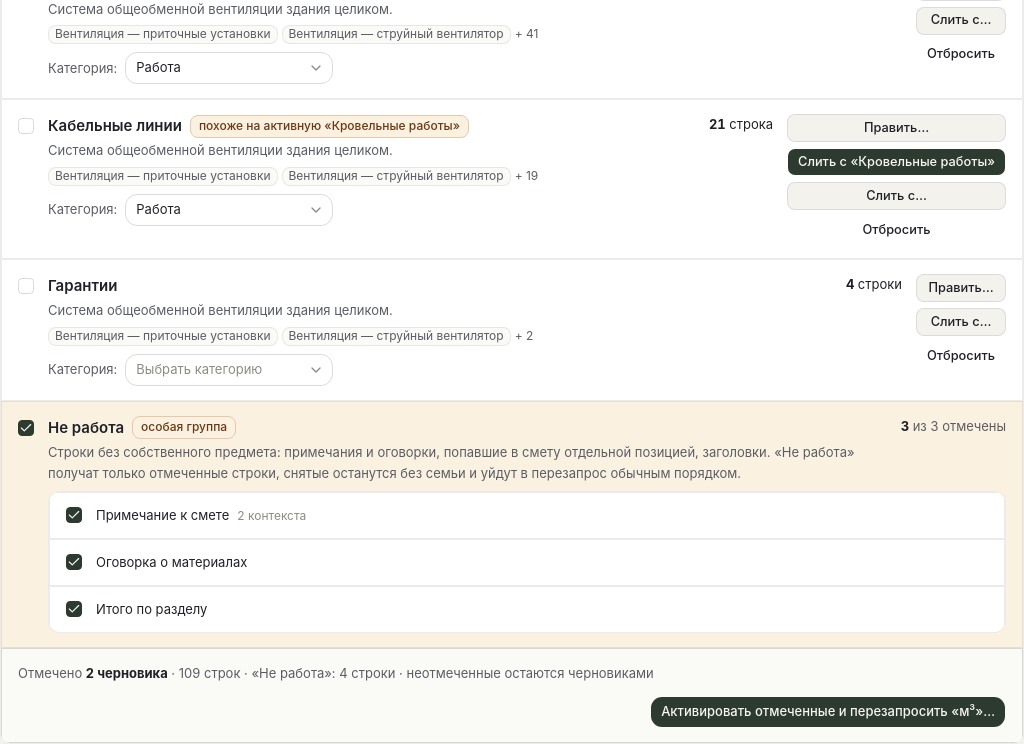
Test: DiscoveryDrafts — активация › после успеха экран перечитан: активированные черновики ушли из списка
(page scrolled)
Step 1. Click the button "Активировать отмеченные и перезапросить «м³»…" → (828, 712), box x1=650 y1=696 x2=1006 y2=728
(page scrolled)
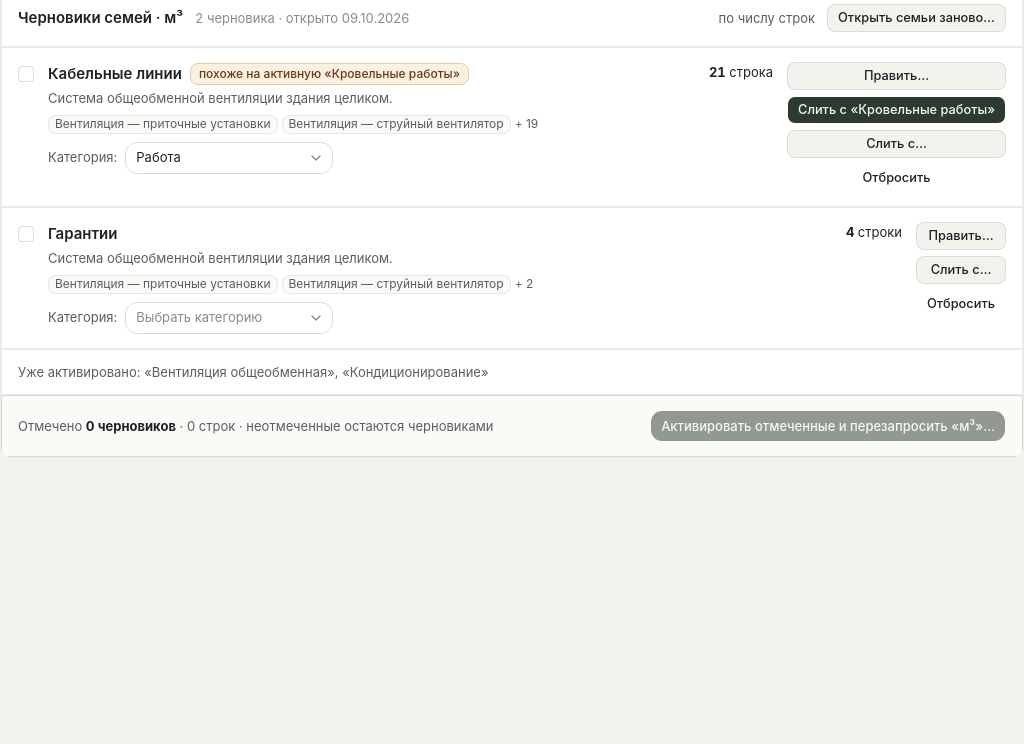
expect the number of elements with test id "draft-card" is 2: met, box x1=1 y1=47 x2=1023 y2=207; x1=1 y1=207 x2=1023 y2=349
expect the text "Уже активировано: «Вентиляция общеобменная», «Кондиционирование»" is shown: met, box x1=1 y1=349 x2=1023 y2=395
